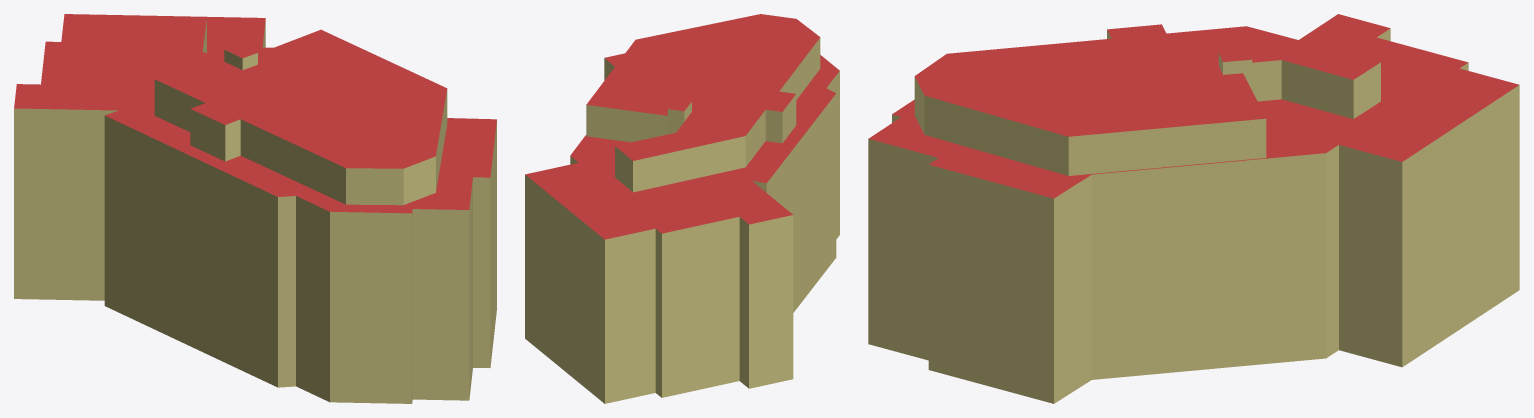
3 renders of one model, left to right at view 1: azimuth 30°, elevation 25°; view 2: azimuth 150°, elevation 25°; view 3: azimuth 270°, elevation 25°, orthographic. The views are drawn at different scales.
Visible parts, largest first — view 1: group_8, group_6, group_3, group_7; view 2: group_8, group_6, group_3, group_7, group_5; view 3: group_8, group_6, group_3, group_7, group_5.
Boxes of the visible parts, <box> form: group_8: <box>14,21,496,403</box>; group_6: <box>154,17,447,168</box>; group_3: <box>14,14,496,213</box>; group_7: <box>154,19,447,205</box>; group_8: <box>525,58,839,403</box>; group_6: <box>586,14,820,160</box>; group_3: <box>525,53,839,239</box>; group_7: <box>586,38,820,192</box>; group_5: <box>667,102,691,134</box>; group_8: <box>868,28,1519,403</box>; group_6: <box>914,24,1380,136</box>; group_3: <box>868,14,1519,198</box>; group_7: <box>914,30,1380,175</box>; group_5: <box>1218,53,1252,90</box>.
Bounding box in the file's own units: 27.02 × 40.28 × 17.57.
